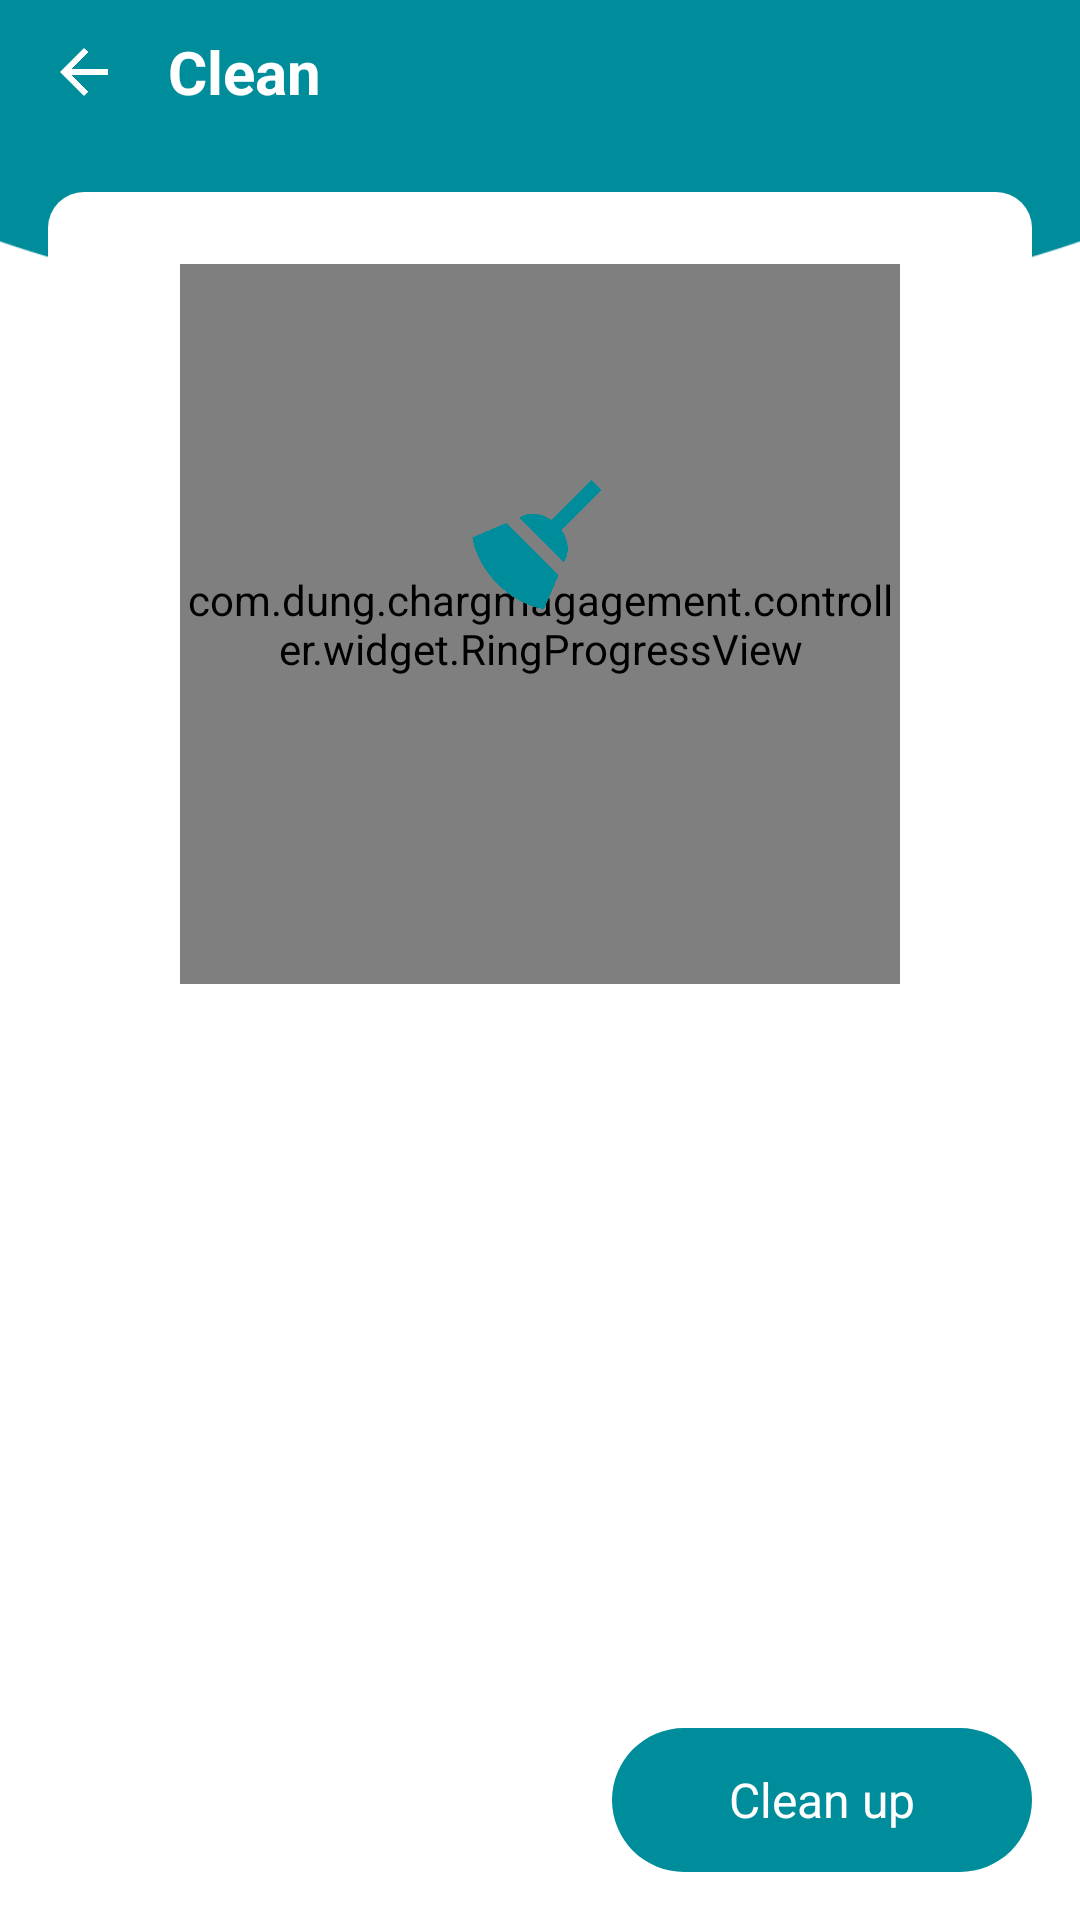

Icon bounding boxes for this 1080 x 1920 phone screenshot, format (x1, y1, x2, y2):
Back: (60, 48, 108, 96)
broom: (458, 480, 621, 625)
